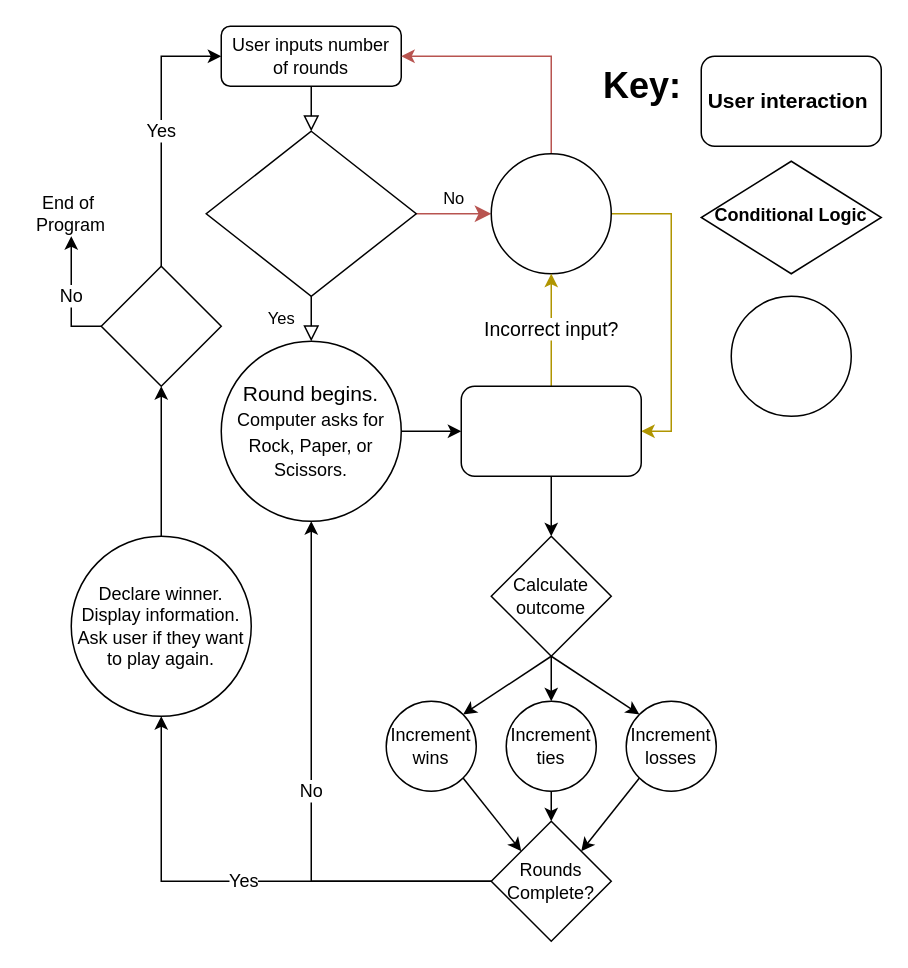
Image size: 908x968. Some labels were removed from this diagram. Each missing label, with the centre of its shape:
Inform user of error, ask again.: point (550, 213)
Number of rounds is within range? 1-10: point (310, 213)
Play again?: point (160, 325)
Programs action: point (790, 355)
User inputs Rock, Paper or Scissors: point (550, 430)
